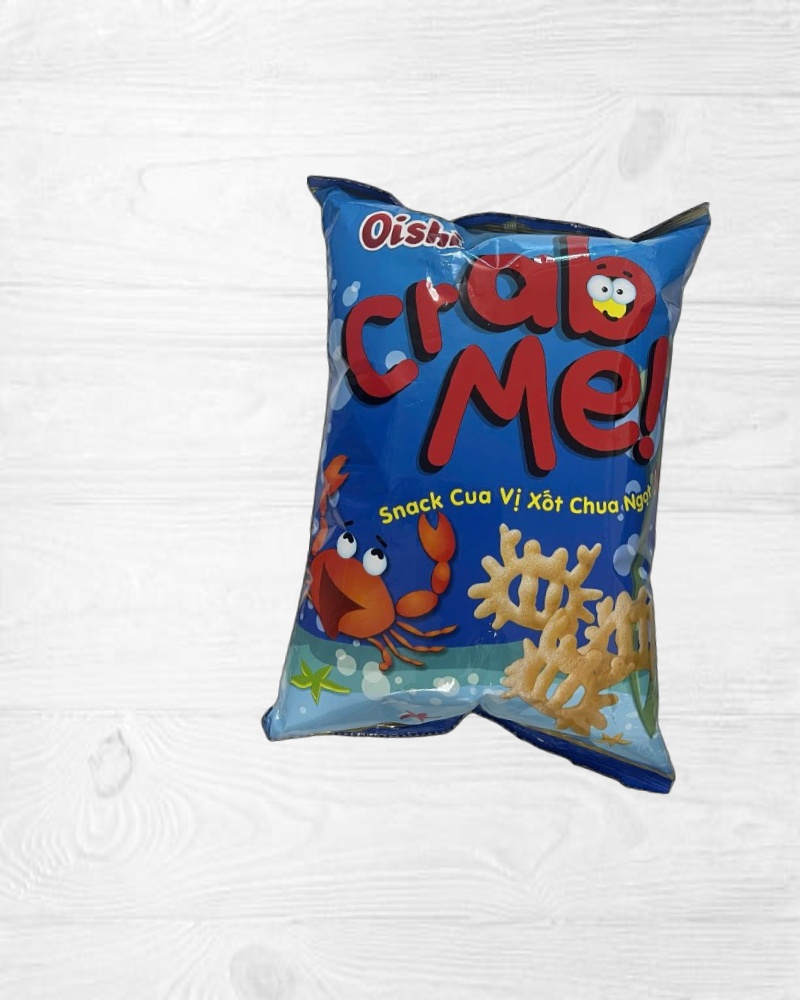Snack cua: (258, 168, 725, 789)
